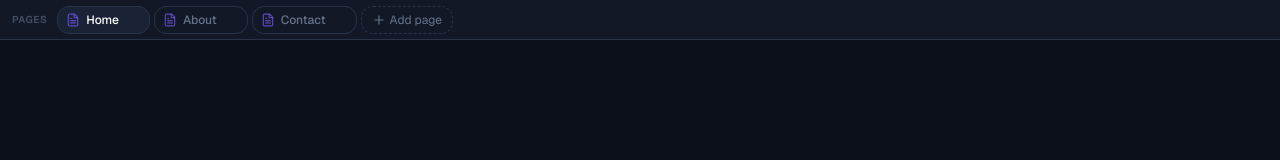
PageTabs adding › renames the new page on Enter
Click the button with test id "page-tab-add".
click(407, 20)  # box [361,6,453,34]
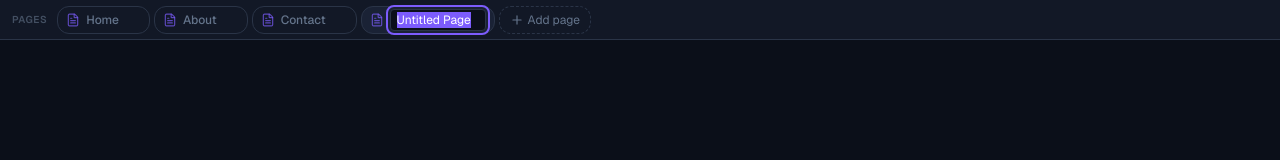
Replace the text in the field with test id "page-rename-input" with "Blog" at (438, 20), box [390,8,486,30]
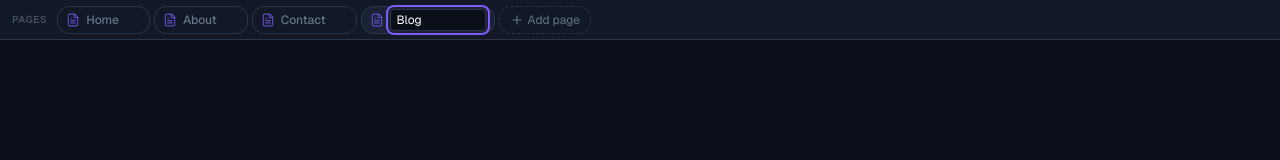
Press Enter in the field with test id "page-rename-input", box [390,8,486,30]
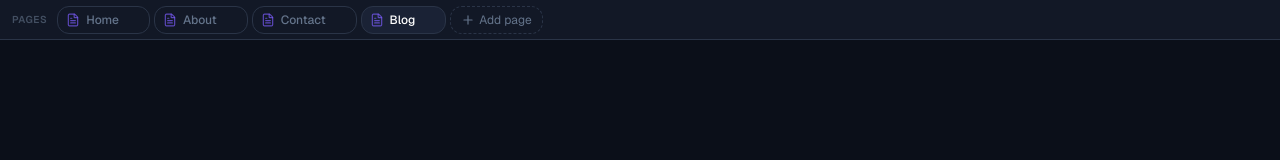
Expected: the text "Blog" is shown, [390,12,415,28]
Expected: the field with test id "page-rename-input" is gone
